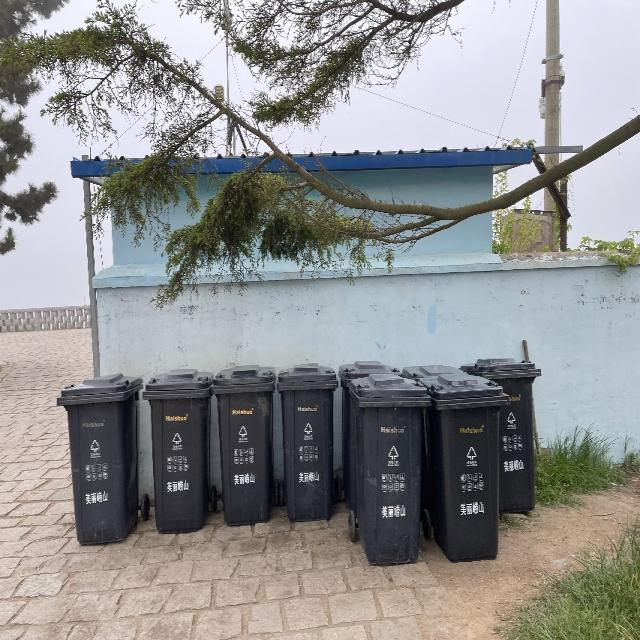garbage_bin: (421, 372, 508, 561), (349, 371, 429, 567), (56, 372, 142, 547), (459, 355, 542, 514), (142, 368, 214, 533), (212, 365, 276, 525), (276, 362, 337, 519)
